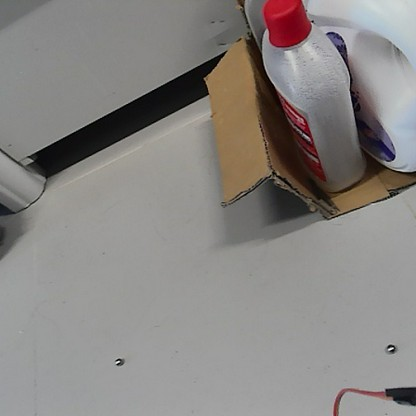ironball: (384, 341, 396, 355), (113, 355, 124, 368)
